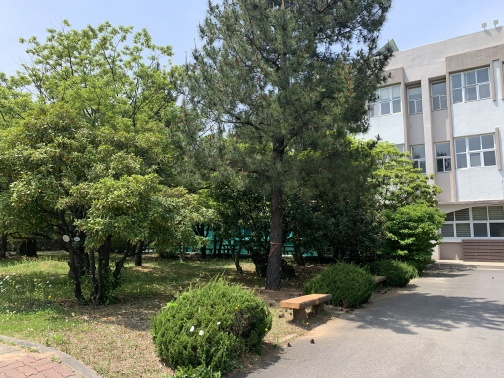Ara Hall: (170, 207, 335, 259)
